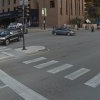crosswalk: (21, 54, 100, 88)
